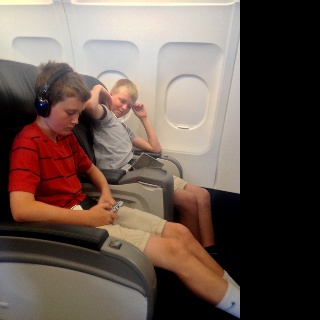without_mask: (48, 98, 84, 137)
